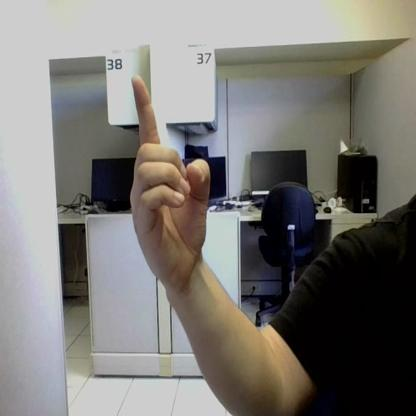D: (130, 75, 210, 283)
